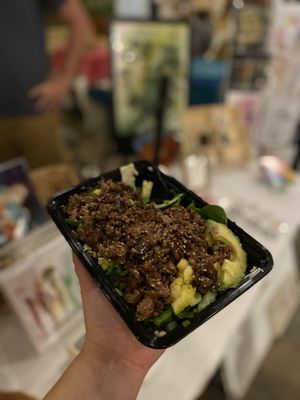pizza: (108, 19, 193, 171)
